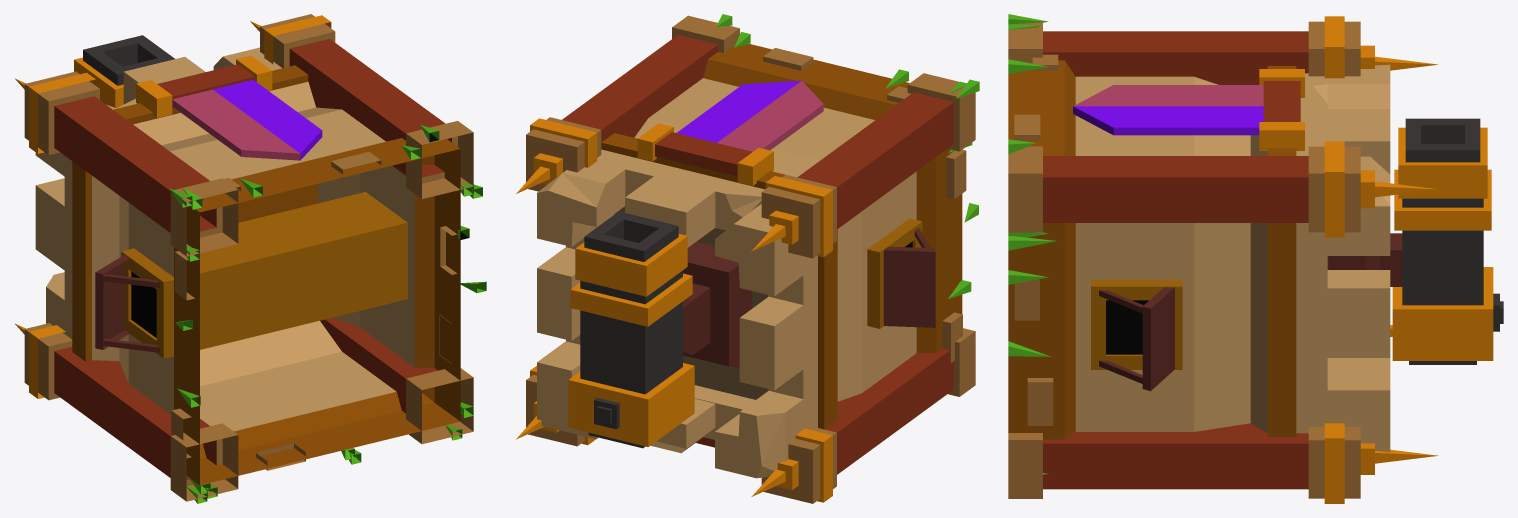
File: Turret Tower 02.FBX
The picture shows the model from 3 angles, left to right: view 1: azimuth 30°, elevation 25°; view 2: azimuth 150°, elevation 25°; view 3: azimuth 270°, elevation 25°; orthographic projection. The views are drawn at different scales.
Visible parts, largest first — view 1: Turret Tower 02, Turret; view 2: Turret Tower 02, Turret; view 3: Turret Tower 02, Turret.
Part boxes in pixels (x1,y1,x2,y2): Turret Tower 02: (15, 14, 486, 503); Turret: (74, 35, 174, 108); Turret Tower 02: (516, 14, 979, 503); Turret: (568, 211, 694, 448); Turret Tower 02: (1008, 14, 1438, 503); Turret: (1392, 118, 1503, 364).
Bounding box in the file's own units: 443 × 392 × 516.
1 material, 1 textured.
